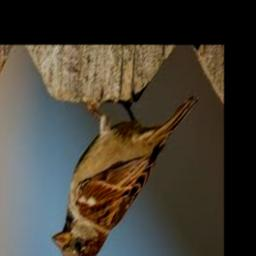Sparrow: (51, 97, 198, 256)
